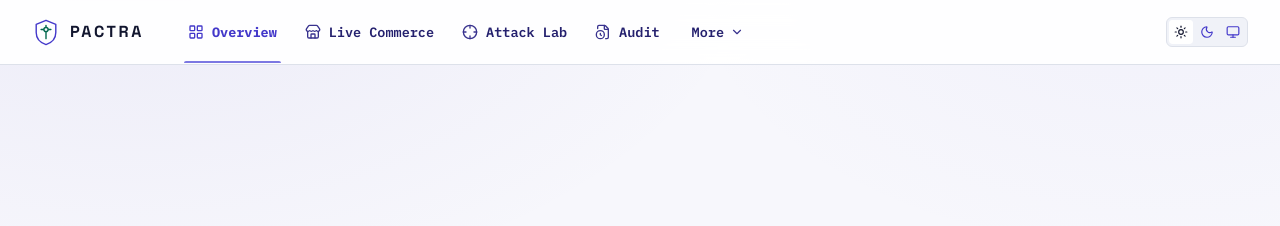
Navbar (Phase 2 App Shell) › 7. Risk, Adapters, System remain secondary in More dropdown
Click the button with aria-label "Secondary navigation options".
click(718, 32)  # box [680, 14, 756, 50]
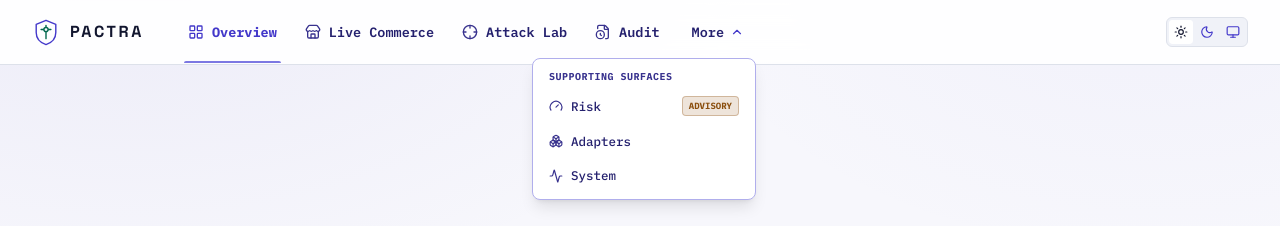
Check: the menu item "Risk ADVISORY" is shown, box [549, 96, 739, 116]
Check: the menu item "Adapters" is shown, box [549, 133, 631, 149]
Check: the menu item "System" is shown, box [549, 167, 616, 183]
